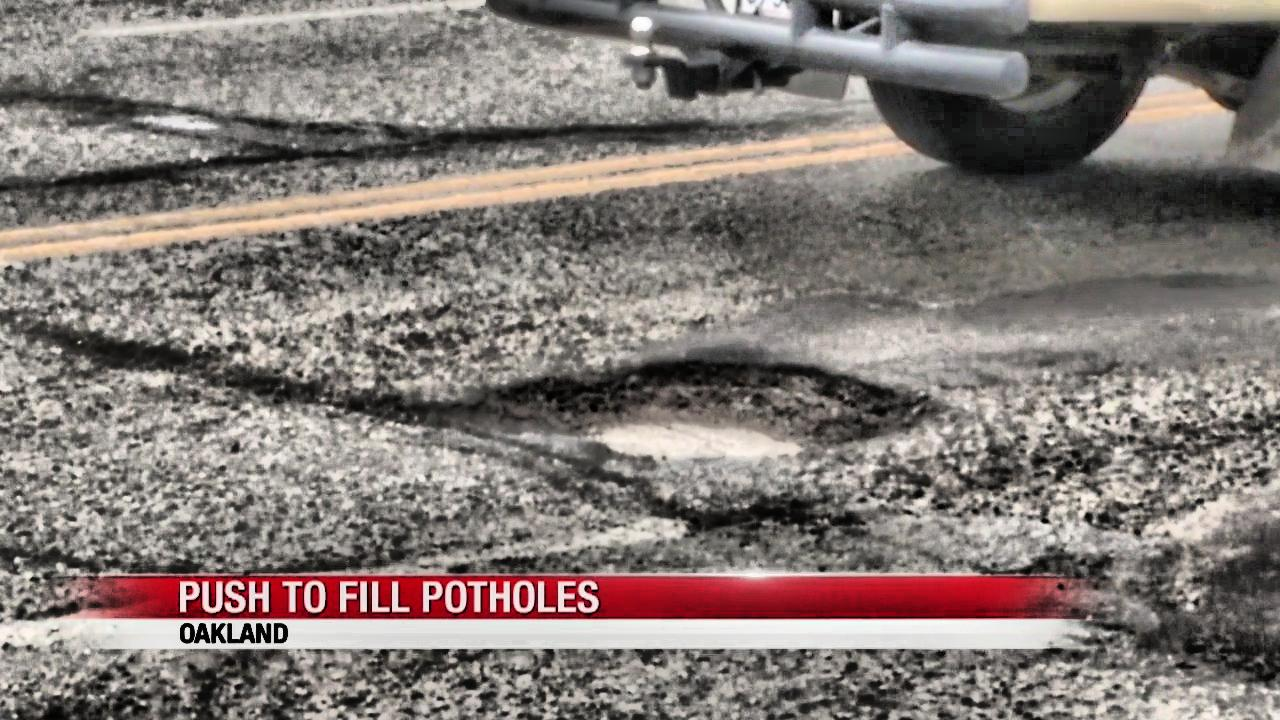pothole: (502, 357, 926, 471)
